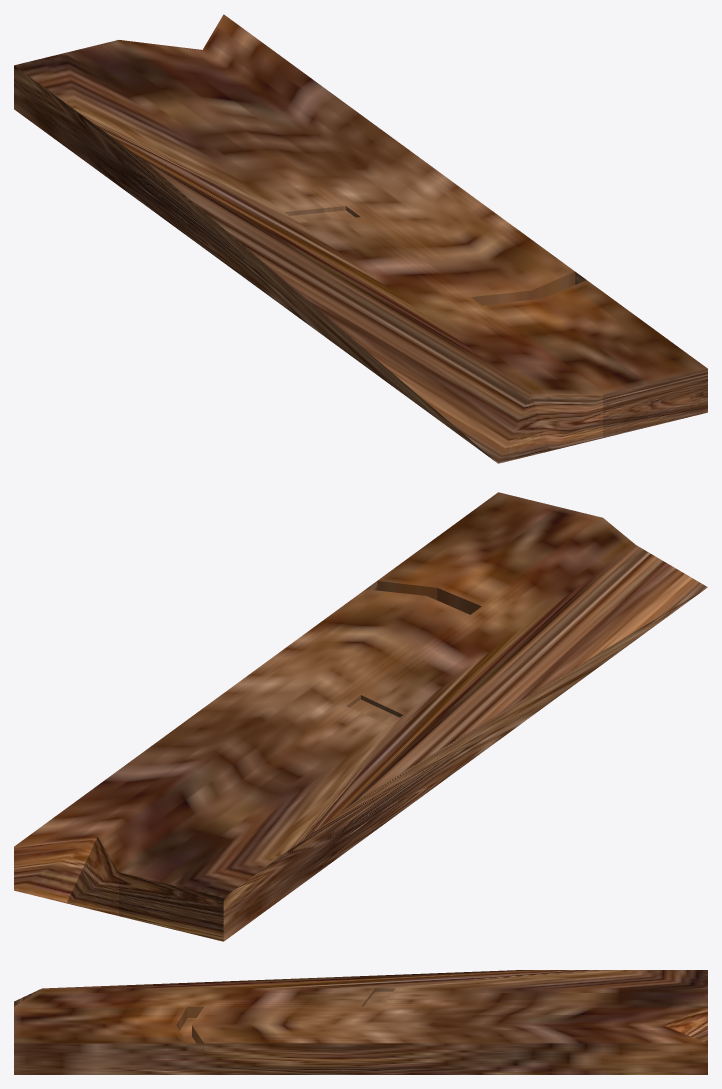
The model's file is wood.fbx.
3 renders of one model, top to bottom at view 1: azimuth 30°, elevation 25°; view 2: azimuth 150°, elevation 25°; view 3: azimuth 270°, elevation 25°, orthographic. The views are drawn at different scales.
Visible parts, largest first — view 1: Cube; view 2: Cube; view 3: Cube.
Part boxes in pixels (left/top/right/bottom): Cube: left=14, top=14, right=707, bottom=463; Cube: left=14, top=492, right=707, bottom=941; Cube: left=14, top=970, right=707, bottom=1074.
Bounding box in the file's own units: 50 × 10 × 200.
1 material, 1 textured.
